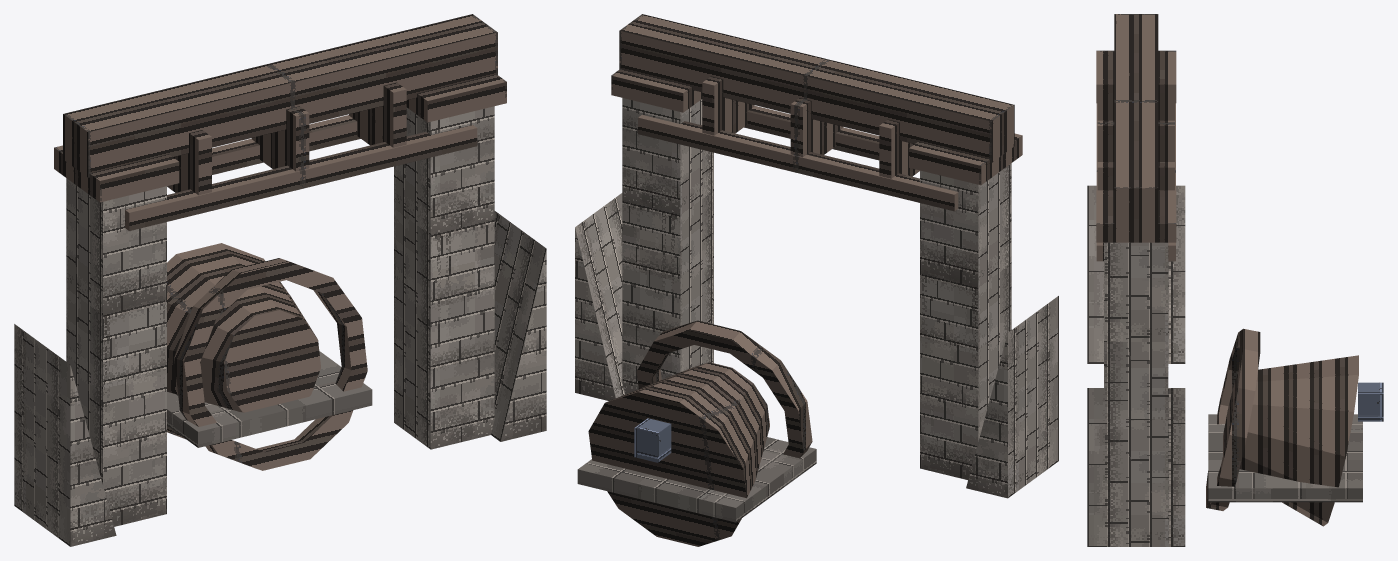
The model's file is lm_bell_frame.glb.
The picture shows the model from 3 angles, left to right: view 1: azimuth 30°, elevation 25°; view 2: azimuth 150°, elevation 25°; view 3: azimuth 270°, elevation 25°; orthographic projection. The views are drawn at different scales.
Visible parts, largest first — view 1: lm_bell_frame; view 2: lm_bell_frame; view 3: lm_bell_frame.
Part boxes in pixels (x1=…): lm_bell_frame: x1=14, y1=14, x2=546, y2=546; lm_bell_frame: x1=575, y1=14, x2=1058, y2=546; lm_bell_frame: x1=1087, y1=14, x2=1383, y2=546.
Bounding box in the file's own units: 9.3 × 8.48 × 5.75.
18 materials, 18 textured.
